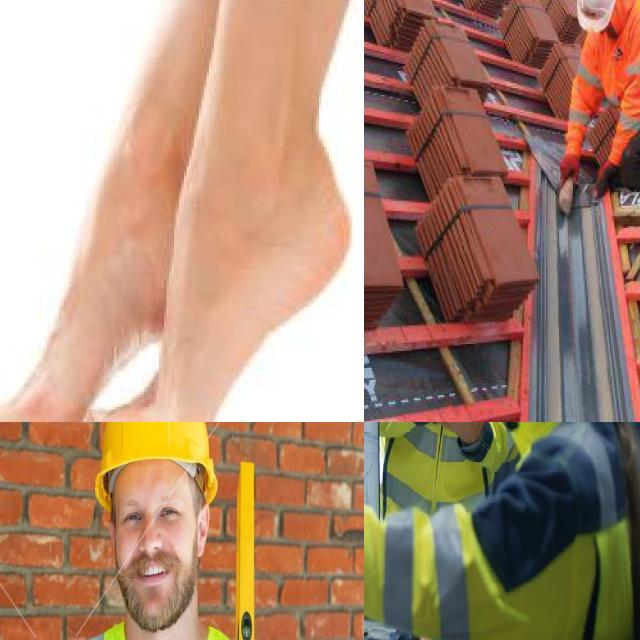Barefoots: (100, 124, 364, 422), (0, 136, 237, 422)
No_Ear-Protection: (196, 501, 210, 559)
face_nomask: (104, 467, 208, 616)
hand_glove: (556, 153, 582, 185)
hand_noglove: (429, 422, 494, 451)
head_helmet: (91, 422, 221, 482), (574, 0, 619, 31)
person: (0, 422, 320, 640), (466, 422, 640, 640), (562, 0, 640, 190)
vest: (389, 422, 640, 640), (370, 422, 509, 498), (575, 2, 640, 134)
